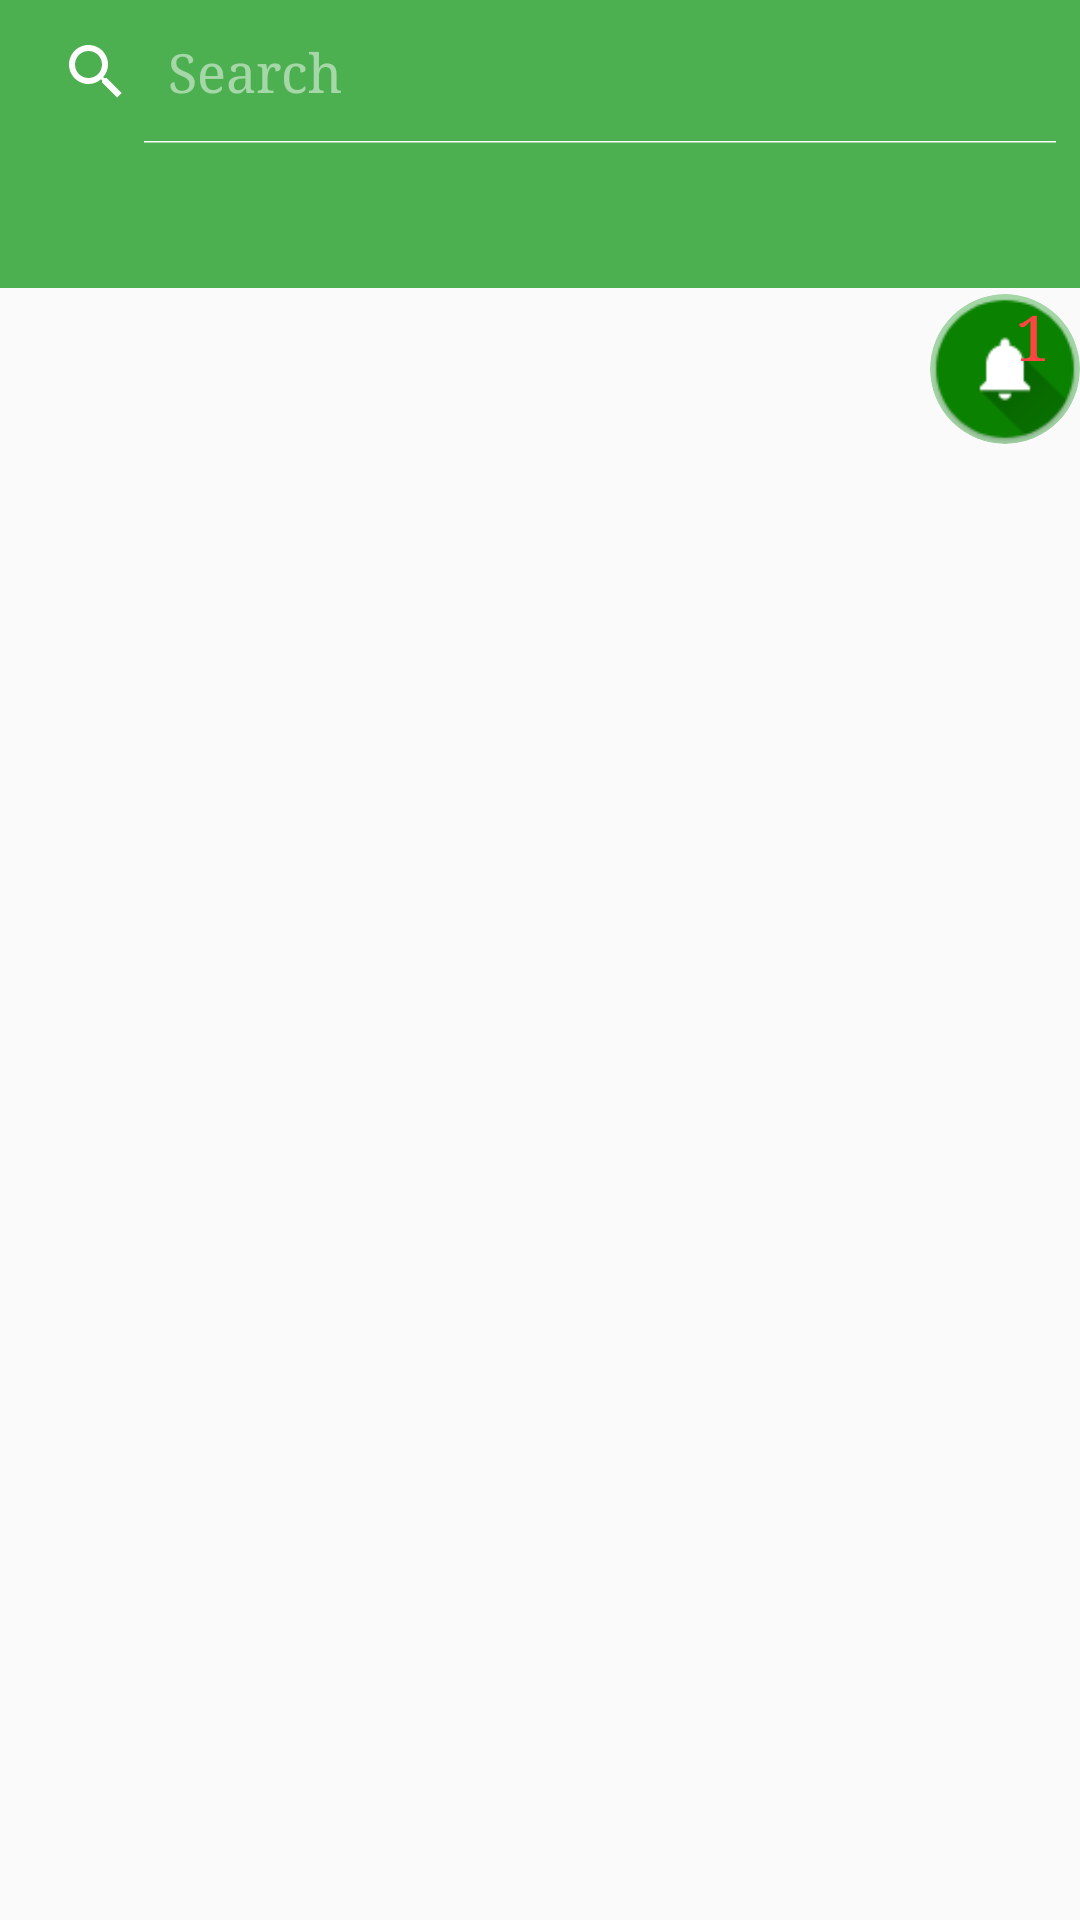

Where to tap for icons on this 1080x1920 app screen, as [x,y]:
notification: [1005,369]
